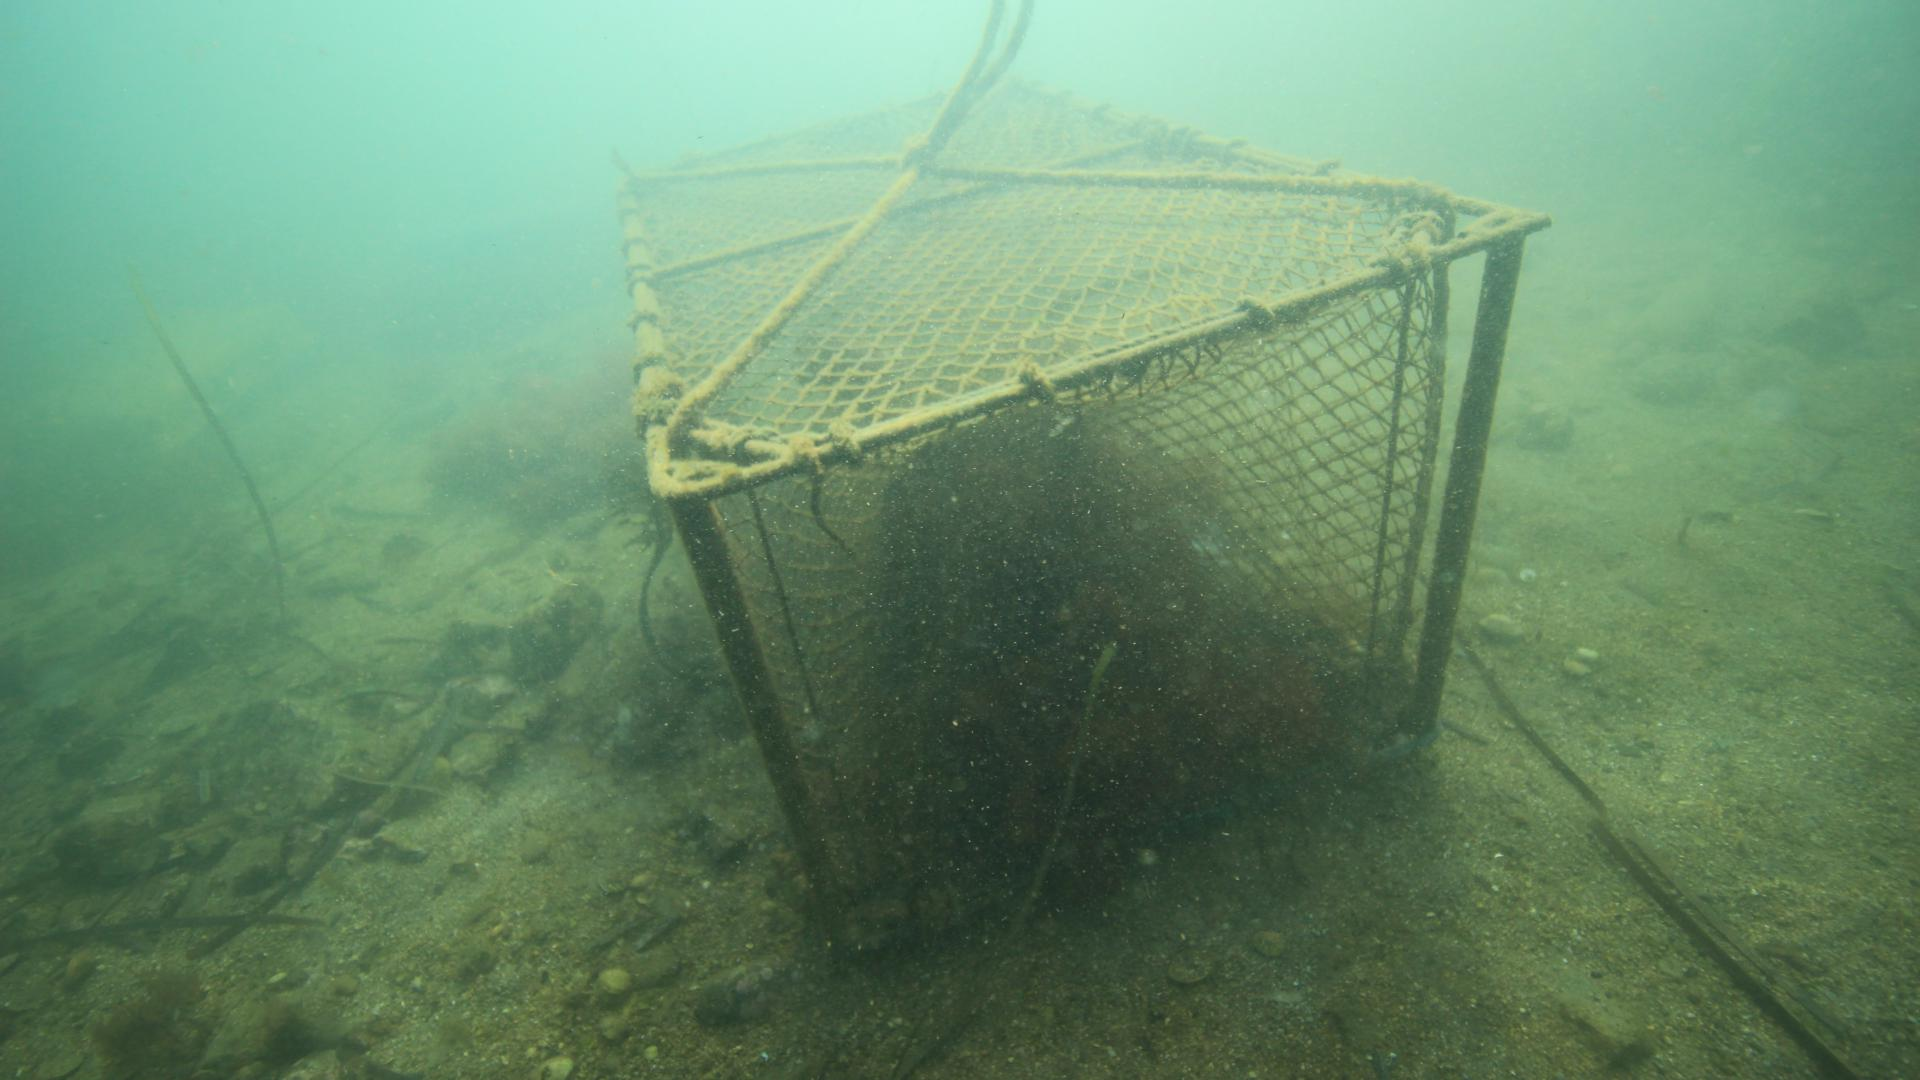bundle of ropes: (890, 0, 1051, 116)
rectangular fish trap: (604, 61, 1553, 976)
